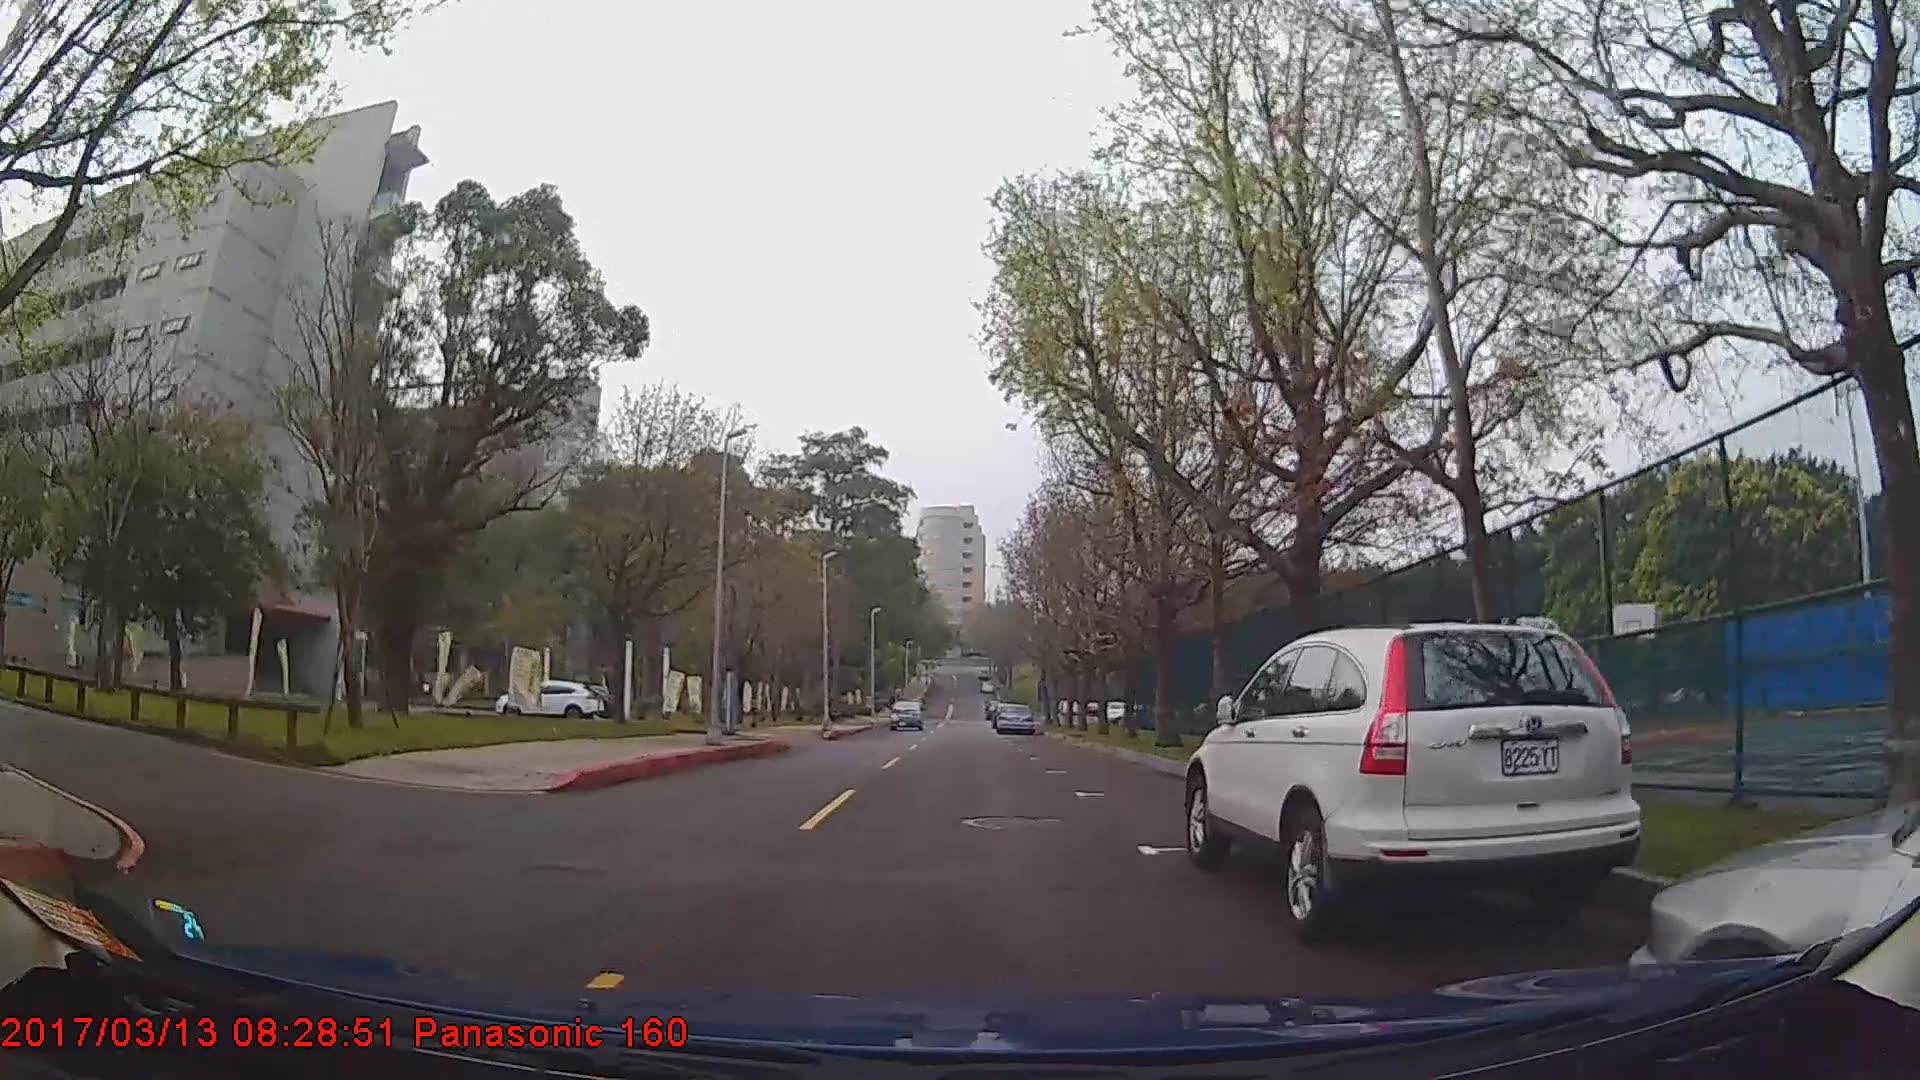vehicle: (1182, 618, 1640, 936), (496, 678, 604, 720), (993, 700, 1033, 733), (887, 698, 923, 731)
